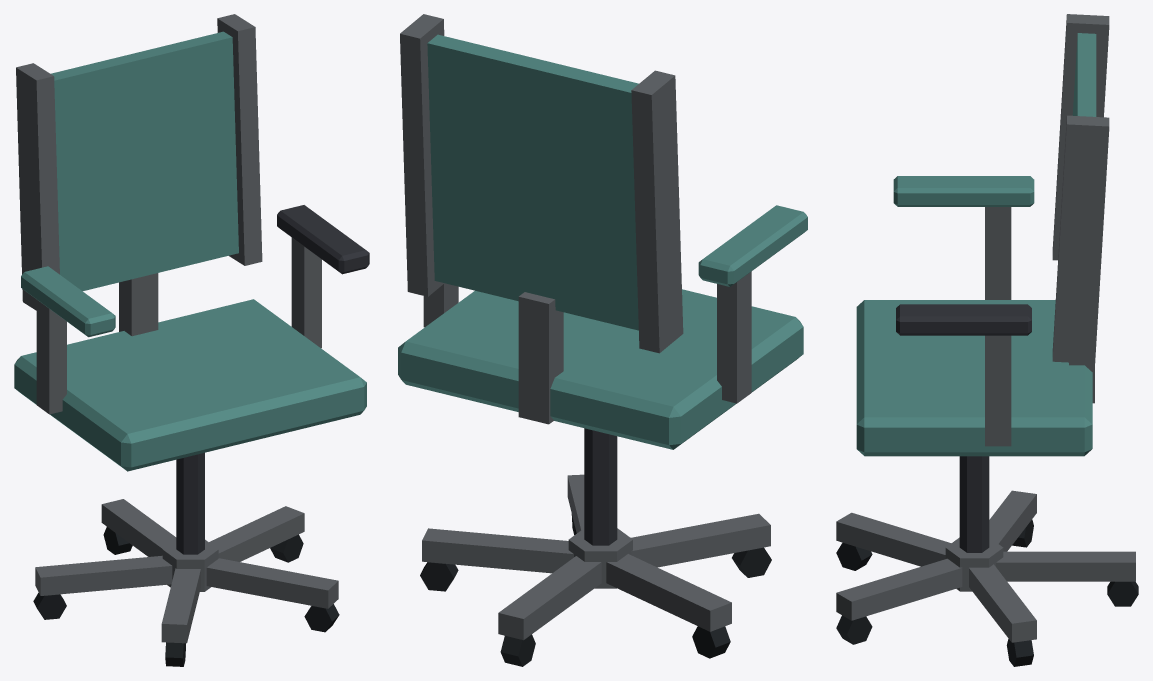
File: office-chair-02.glb
The picture shows the model from 3 angles, left to right: view 1: azimuth 30°, elevation 25°; view 2: azimuth 150°, elevation 25°; view 3: azimuth 270°, elevation 25°; orthographic projection. The views are drawn at different scales.
Parts seen in each view (by area): view 1: office_chair_02; view 2: office_chair_02; view 3: office_chair_02.
Boxes of the visible parts, <box> form: office_chair_02: <box>14,14,369,666</box>; office_chair_02: <box>398,14,807,666</box>; office_chair_02: <box>836,14,1138,666</box>.
Size of the model in its own units: 0.6483 by 1.12 by 0.5754.
